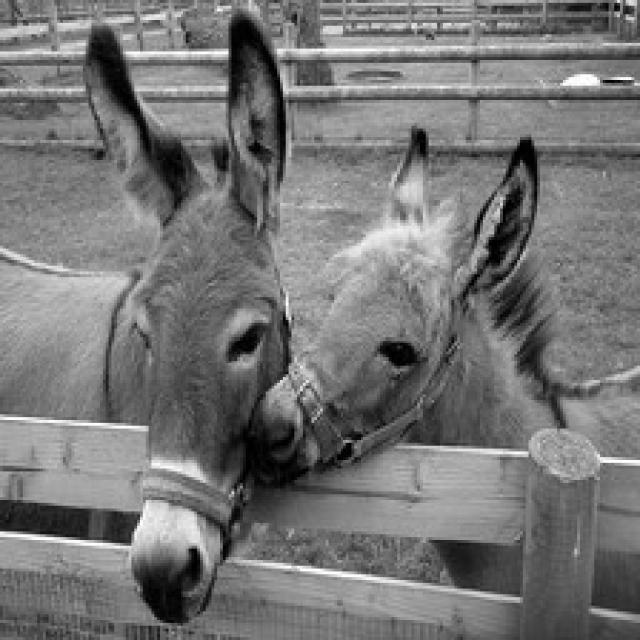Donkey: (246, 123, 637, 637), (0, 2, 294, 637)
